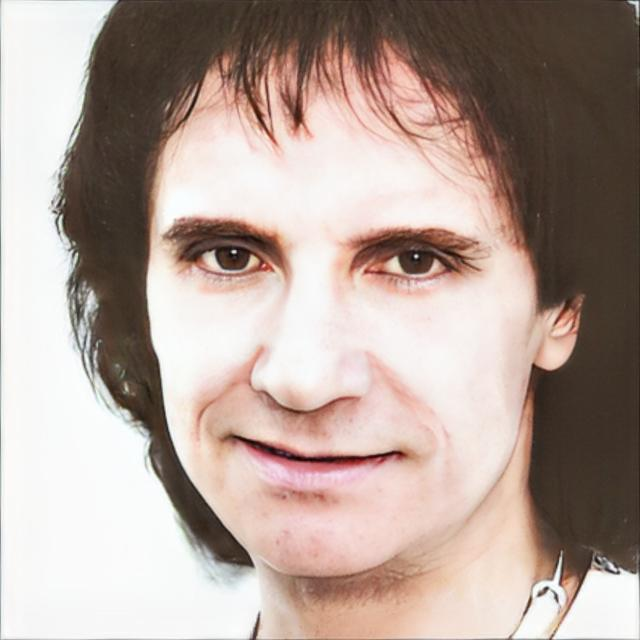content: (142, 58, 535, 581)
